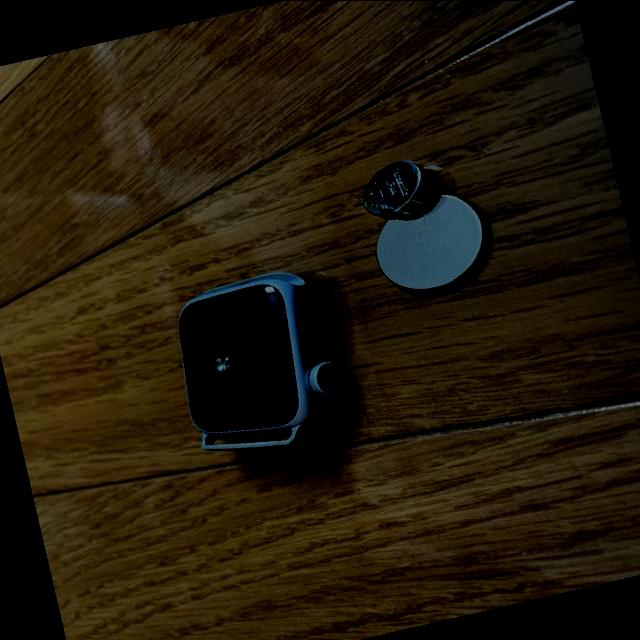COIN: (364, 185, 498, 302), (354, 153, 442, 227)
